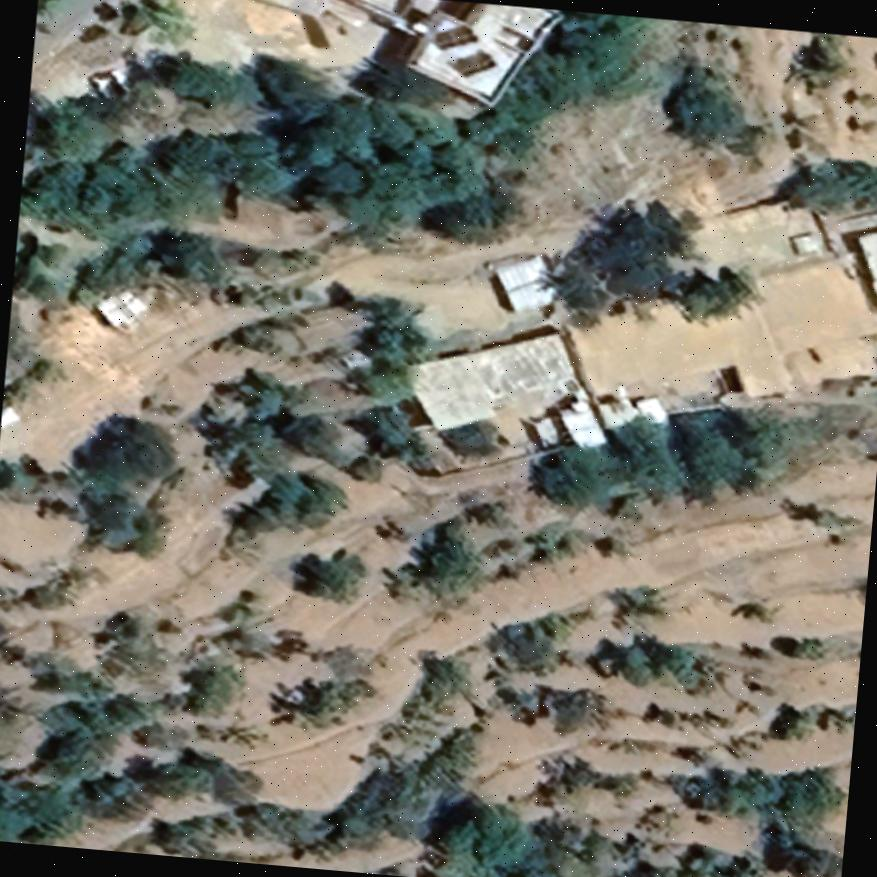Solarpanel: (444, 45, 498, 80), (429, 20, 478, 52)
